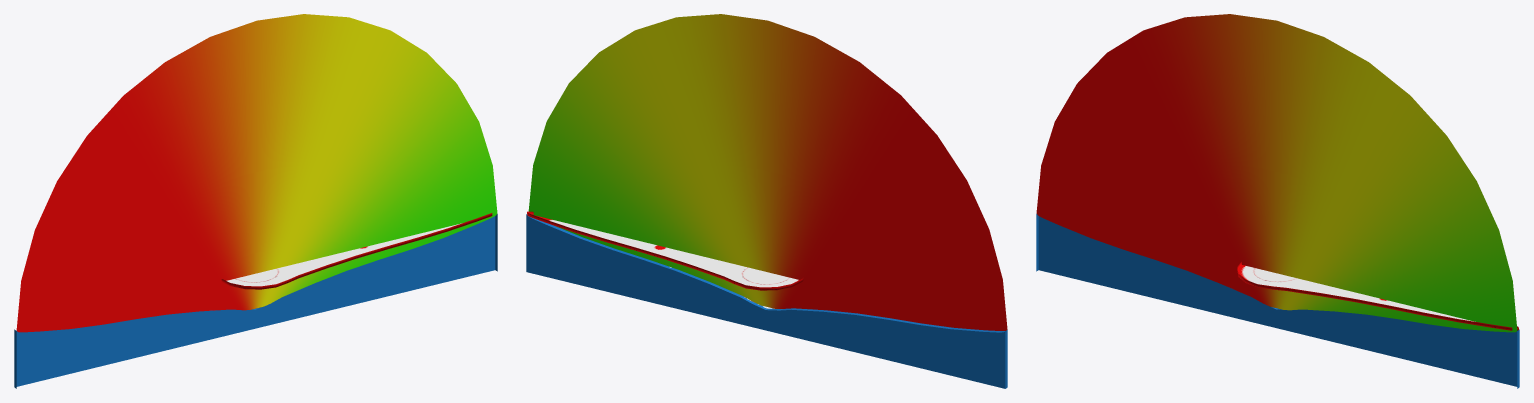
File: Meter.fbx
3 views of the same model, side by side, from view 1: azimuth 30°, elevation 25°; view 2: azimuth 150°, elevation 25°; view 3: azimuth 330°, elevation 25° (orthographic).
Visible parts, largest first — view 1: Frame, Pointer; view 2: Frame, Pointer; view 3: Frame, Pointer.
Boxes of the visible parts, left/top/right/bottom form: Frame: left=14, top=14, right=497, bottom=388; Pointer: left=221, top=213, right=492, bottom=289; Frame: left=526, top=14, right=1007, bottom=388; Pointer: left=527, top=211, right=803, bottom=290; Frame: left=1036, top=14, right=1519, bottom=388; Pointer: left=1237, top=262, right=1518, bottom=330.
Size of the model in its own units: 312 by 192 by 46.5.
